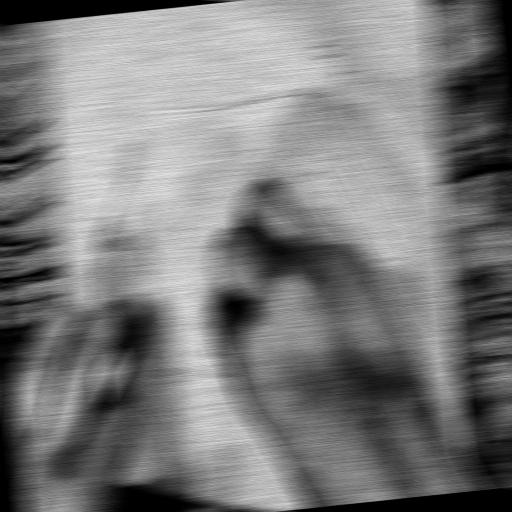house: (71, 31, 421, 437)
